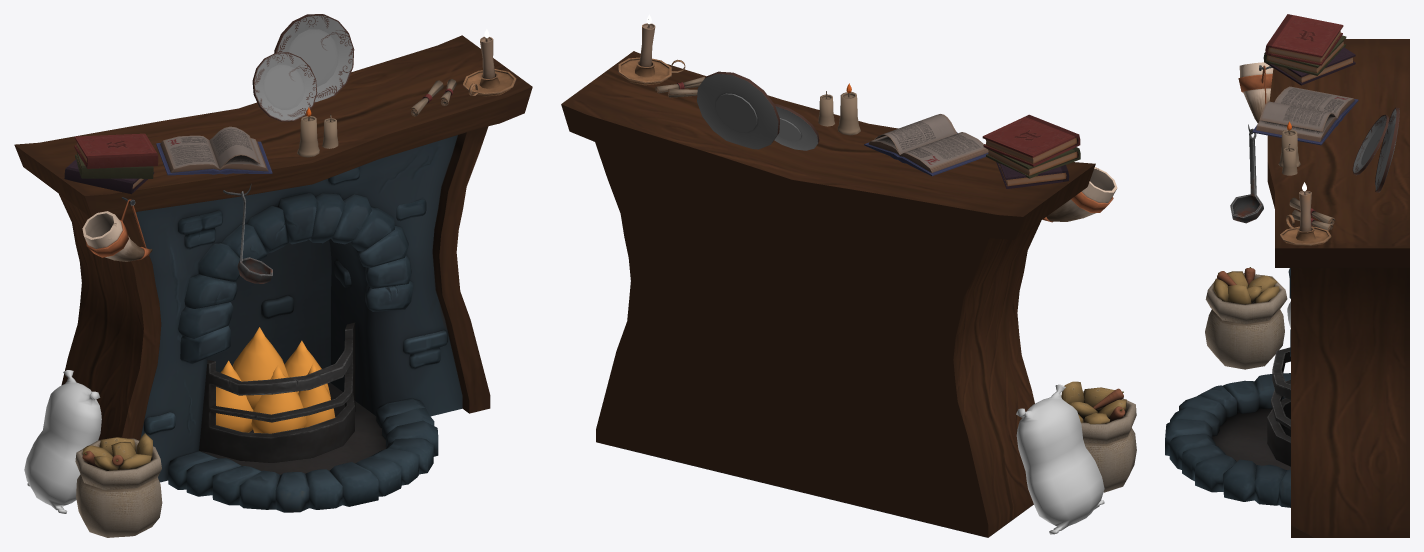
The model's file is fire.gltf.
3 views of the same model, side by side, from view 1: azimuth 30°, elevation 25°; view 2: azimuth 150°, elevation 25°; view 3: azimuth 270°, elevation 25° (orthographic). The views are drawn at different scales.
Visible parts, largest first — view 1: Cube.037, Cube.012, Cube.010, Cube.006, Cylinder.009, Cylinder.007, Cube.004, Cylinder.013, Sphere.004, Sphere.006, Cylinder.002, Sphere.007 (+6 smaller); view 2: Cube.037, Cube.010, Cube.012, Cylinder.009, Cube.006, Cube.004, Cylinder.013, Cylinder.002, Cylinder.007, Cube.003, Cube.002, Cylinder.001; view 3: Cube.037, Cube.012, Cube.006, Cube.004, Cylinder.013, Cylinder.002, Cube.001, Cylinder.009, Cylinder.007, Cube.002, Cube.003, Cylinder.001 (+2 smaller).
Boxes of the visible parts, bbox=[...] form: Cube.037: bbox=[14, 35, 532, 512]; Cube.012: bbox=[75, 433, 162, 537]; Cube.010: bbox=[24, 370, 101, 513]; Cube.006: bbox=[156, 126, 272, 175]; Cylinder.009: bbox=[274, 14, 354, 102]; Cylinder.007: bbox=[252, 52, 317, 121]; Cube.004: bbox=[74, 133, 158, 168]; Cylinder.013: bbox=[82, 197, 152, 261]; Sphere.004: bbox=[232, 327, 288, 409]; Sphere.006: bbox=[251, 365, 306, 433]; Cylinder.002: bbox=[463, 36, 516, 96]; Sphere.007: bbox=[216, 360, 253, 432]; Cube.037: bbox=[561, 51, 1095, 537]; Cube.010: bbox=[1016, 384, 1104, 534]; Cube.012: bbox=[1061, 381, 1136, 492]; Cylinder.009: bbox=[697, 71, 779, 149]; Cube.006: bbox=[864, 114, 988, 176]; Cube.004: bbox=[982, 114, 1080, 166]; Cylinder.013: bbox=[1042, 167, 1117, 222]; Cylinder.002: bbox=[618, 19, 685, 85]; Cylinder.007: bbox=[774, 103, 819, 150]; Cube.003: bbox=[986, 147, 1080, 178]; Cube.002: bbox=[996, 162, 1069, 188]; Cylinder.001: bbox=[837, 92, 860, 135]; Cube.037: bbox=[1165, 39, 1409, 537]; Cube.012: bbox=[1205, 267, 1287, 369]; Cube.006: bbox=[1252, 86, 1358, 145]; Cube.004: bbox=[1265, 14, 1343, 65]; Cylinder.013: bbox=[1238, 62, 1273, 123]; Cylinder.002: bbox=[1280, 191, 1331, 245]; Cube.001: bbox=[1230, 124, 1263, 223]; Cylinder.009: bbox=[1375, 107, 1399, 192]; Cylinder.007: bbox=[1352, 114, 1389, 175]; Cube.002: bbox=[1266, 47, 1355, 85]; Cube.003: bbox=[1263, 35, 1346, 75]; Cylinder.001: bbox=[1278, 129, 1300, 166].
Size of the model in its own units: 2.8 by 2.24 by 1.31.
